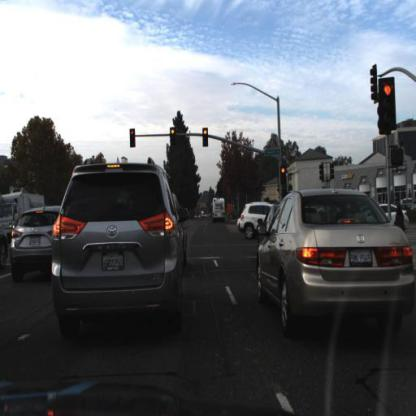car: (255, 188, 411, 341), (54, 161, 187, 331), (15, 205, 69, 277), (237, 189, 280, 244), (255, 203, 273, 252), (376, 205, 410, 230), (207, 196, 231, 228)
pedestrian: (396, 205, 406, 233)
trafficLight: (129, 125, 137, 151)
trafficLight-Red: (376, 74, 400, 142), (201, 125, 211, 152), (168, 126, 178, 148), (170, 130, 178, 153), (280, 165, 288, 187), (202, 128, 210, 147)
truck: (1, 184, 56, 236), (1, 189, 47, 235), (212, 197, 227, 223)
